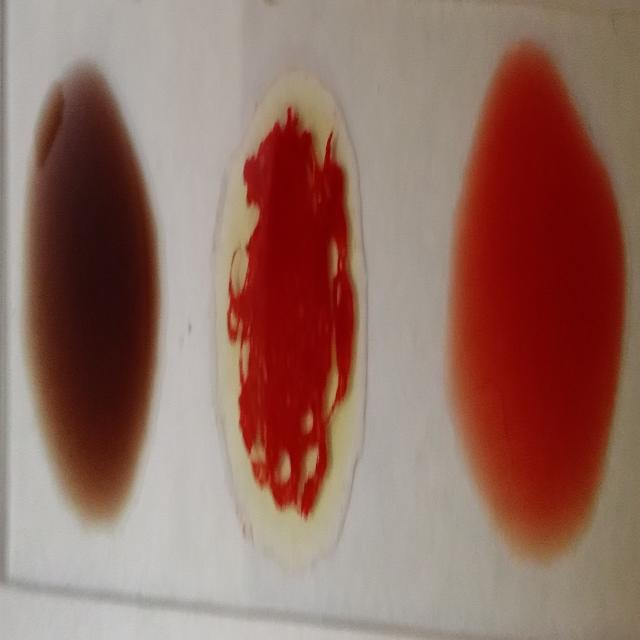B: (211, 64, 368, 582)
